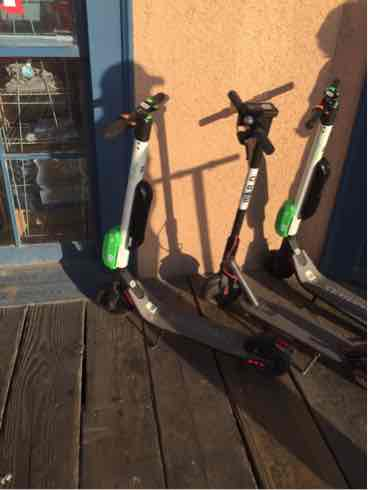scooter: (78, 73, 324, 383)
